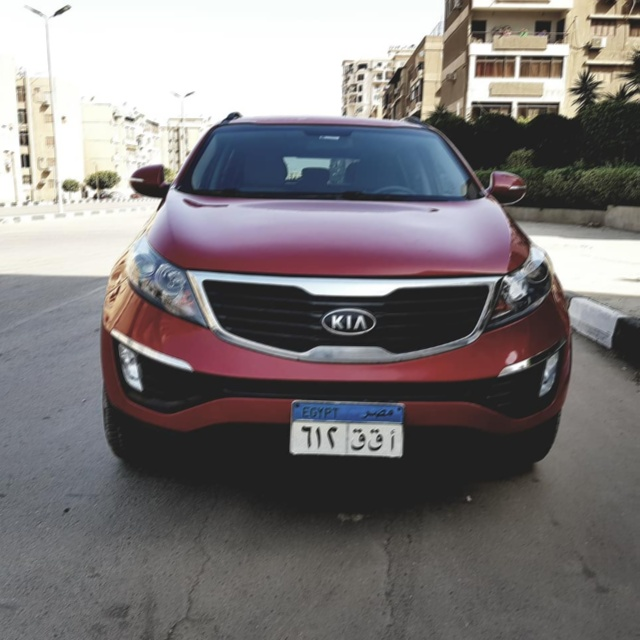License Plate: (289, 399, 407, 459)
